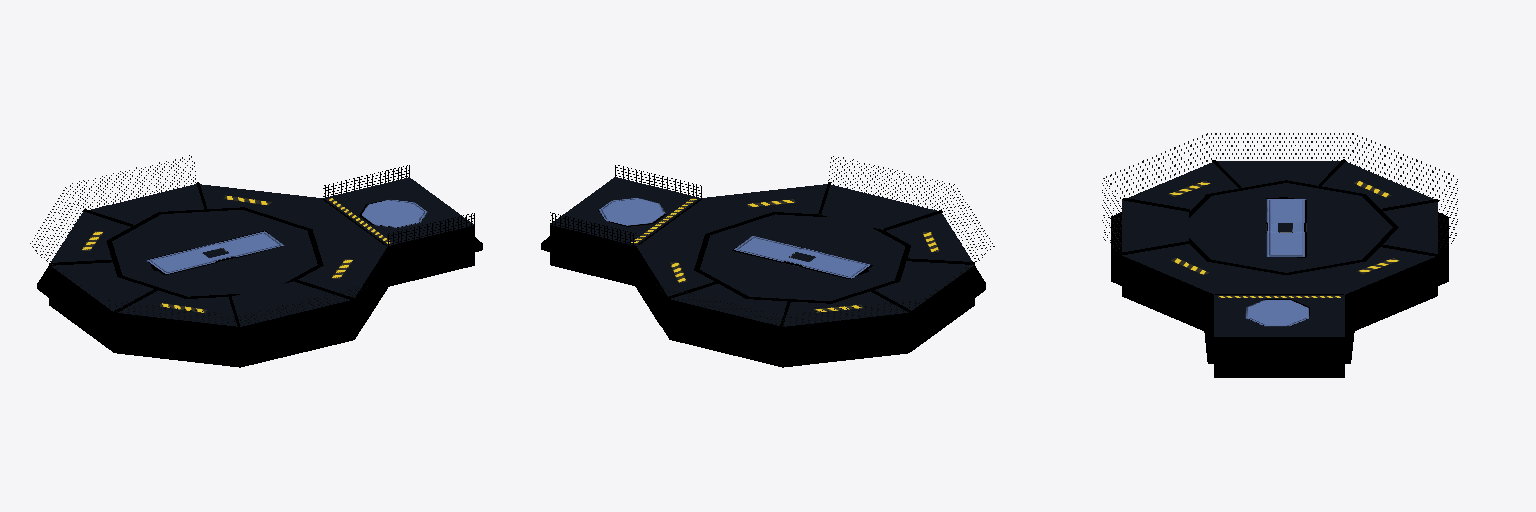
The picture shows the model from 3 angles: view 1: azimuth 30°, elevation 25°; view 2: azimuth 150°, elevation 25°; view 3: azimuth 270°, elevation 25°; orthographic projection.
Visible parts, largest first — view 1: pCylinder8; view 2: pCylinder8; view 3: pCylinder8.
Boxes of the visible parts, box(x1,y1,x2,y2) form: pCylinder8: box(30, 155, 482, 367); pCylinder8: box(541, 156, 994, 367); pCylinder8: box(1102, 133, 1457, 377).
Size of the model in its own units: 10.66 by 1.64 by 8.58.
1 materials, 1 textured.